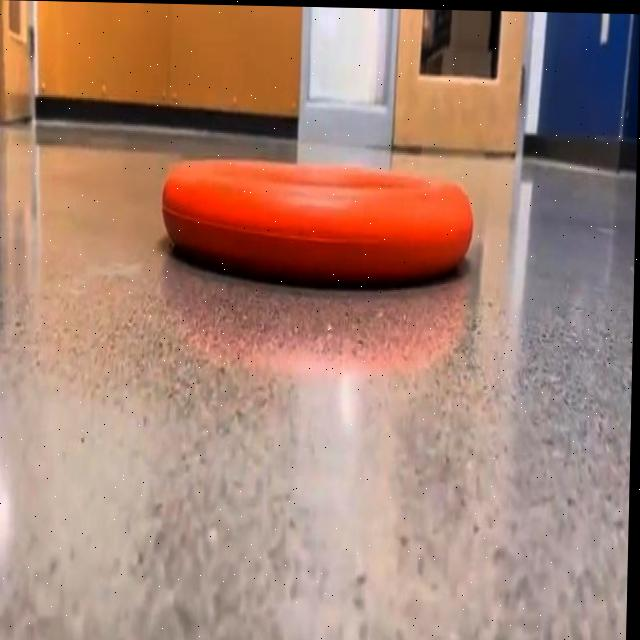note: (163, 159, 475, 286)
